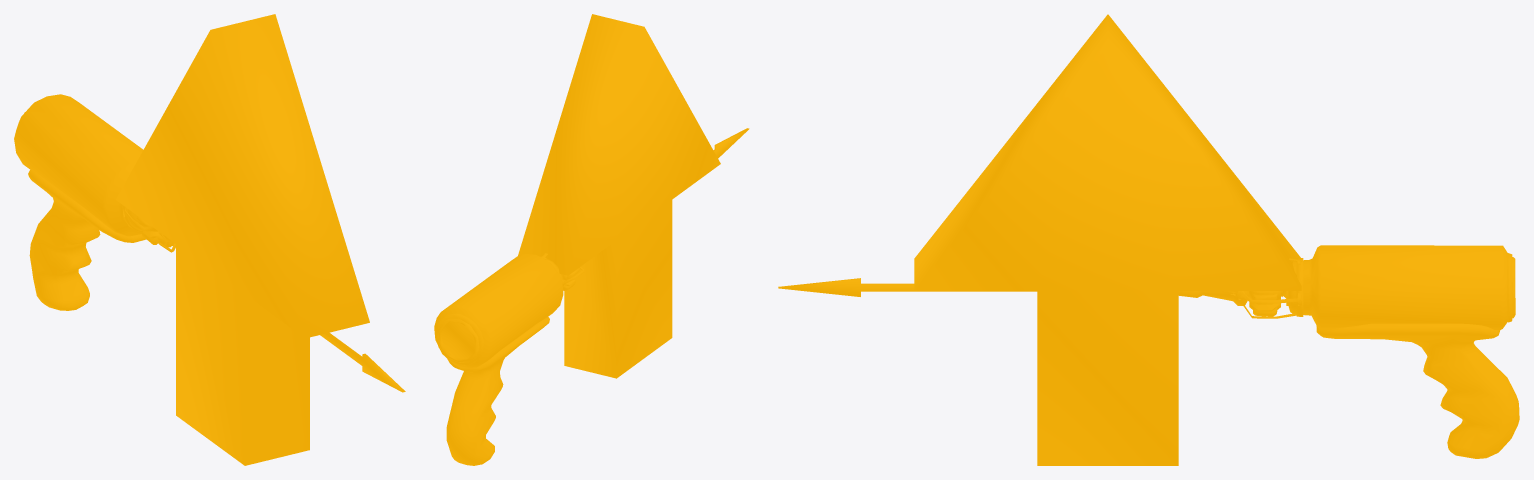
Rendered from holoObjects.fbx.
3 views of the same model, side by side, from view 1: azimuth 30°, elevation 25°; view 2: azimuth 150°, elevation 25°; view 3: azimuth 270°, elevation 25° (orthographic). The views are drawn at different scales.
Visible parts, largest first — view 1: arrow_holo, raygun_holo, arrow_holo_narrow; view 2: arrow_holo, raygun_holo, arrow_holo_narrow; view 3: arrow_holo, raygun_holo, arrow_holo_narrow.
Part boxes in pixels (<box>): arrow_holo: <box>116,14,369,465</box>; raygun_holo: <box>14,94,175,310</box>; arrow_holo_narrow: <box>320,332,405,392</box>; arrow_holo: <box>518,14,720,378</box>; raygun_holo: <box>434,253,584,465</box>; arrow_holo_narrow: <box>713,128,749,158</box>; arrow_holo: <box>914,14,1301,465</box>; raygun_holo: <box>1178,245,1519,458</box>; arrow_holo_narrow: <box>778,278,1037,296</box>.
Size of the model in its own units: 47.5 by 261 by 414.
